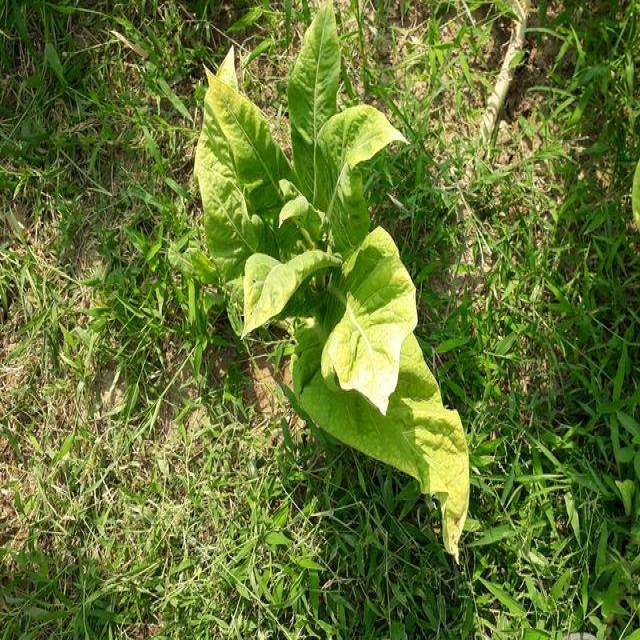crop: (204, 6, 476, 550)
